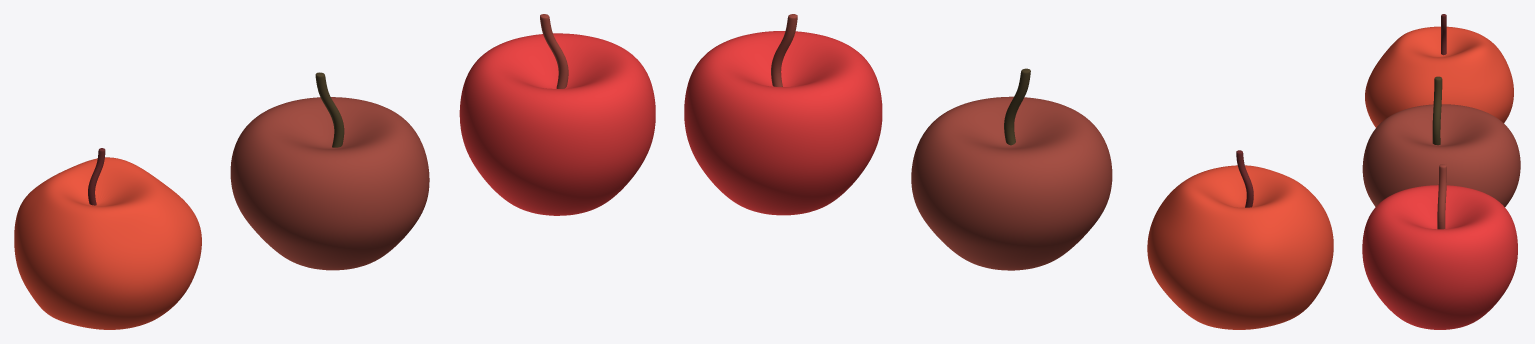
Rendered from apples (2).glb.
3 views of the same model, side by side, from view 1: azimuth 30°, elevation 25°; view 2: azimuth 150°, elevation 25°; view 3: azimuth 270°, elevation 25° (orthographic). The views are drawn at different scales.
Visible parts, largest first — view 1: Sphere.002, Sphere, Sphere.001, Cylinder.001, Cylinder.002; view 2: Sphere.002, Sphere, Sphere.001, Cylinder.001, Cylinder.002; view 3: Sphere.002, Sphere, Sphere.001, Cylinder.001, Cylinder.002, Cylinder.
Boxes of the visible parts, x1,y1,x2,y2 form: Sphere.002: (459,33,655,215); Sphere: (230,97,429,270); Sphere.001: (14,157,201,329); Cylinder.001: (315,72,344,147); Cylinder.002: (540,14,568,88); Sphere.002: (684,31,882,215); Sphere: (911,96,1112,270); Sphere.001: (1147,165,1333,329); Cylinder.001: (1004,68,1030,145); Cylinder.002: (771,14,797,86); Sphere.002: (1362,185,1517,329); Sphere: (1362,104,1520,206); Sphere.001: (1365,26,1513,127); Cylinder.001: (1432,76,1442,145); Cylinder.002: (1437,164,1446,229); Cylinder: (1441,14,1446,55).
Size of the model in its own units: 12.89 by 3.7 by 3.61.
Materials: 6 (6 with a texture image).
